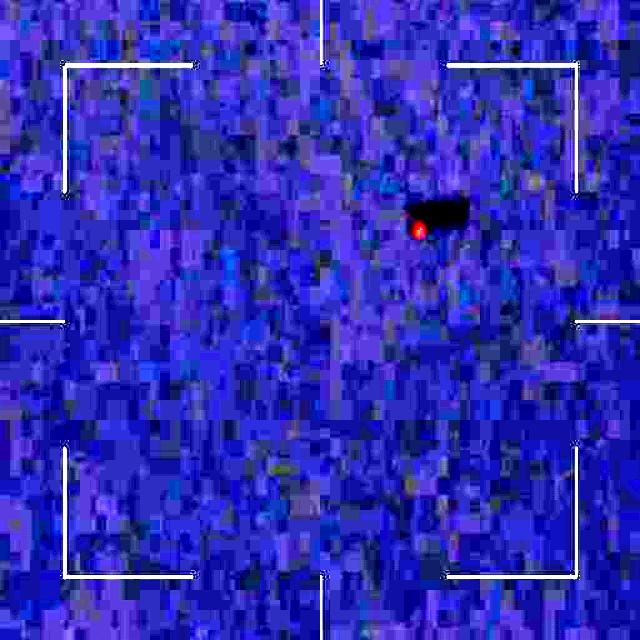bird: (402, 200, 432, 259)
